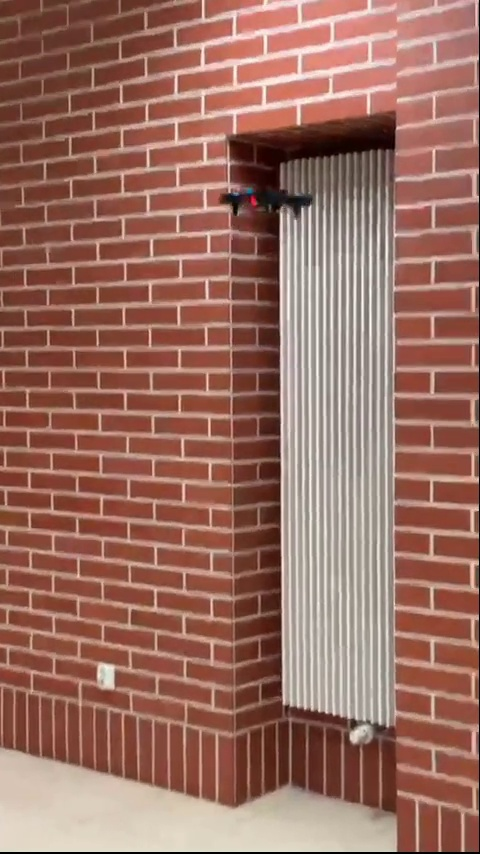drone: (217, 184, 316, 228)
